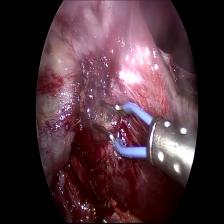Bipolar: (90, 94, 174, 163)
